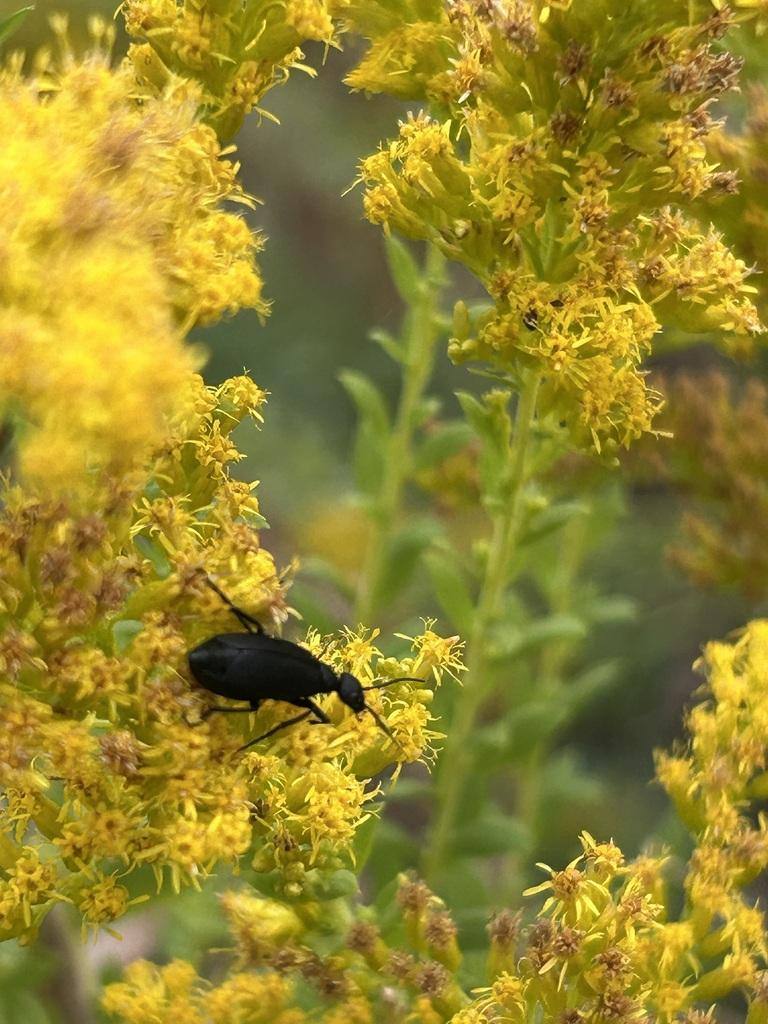blister_beetle: (147, 550, 453, 816)
